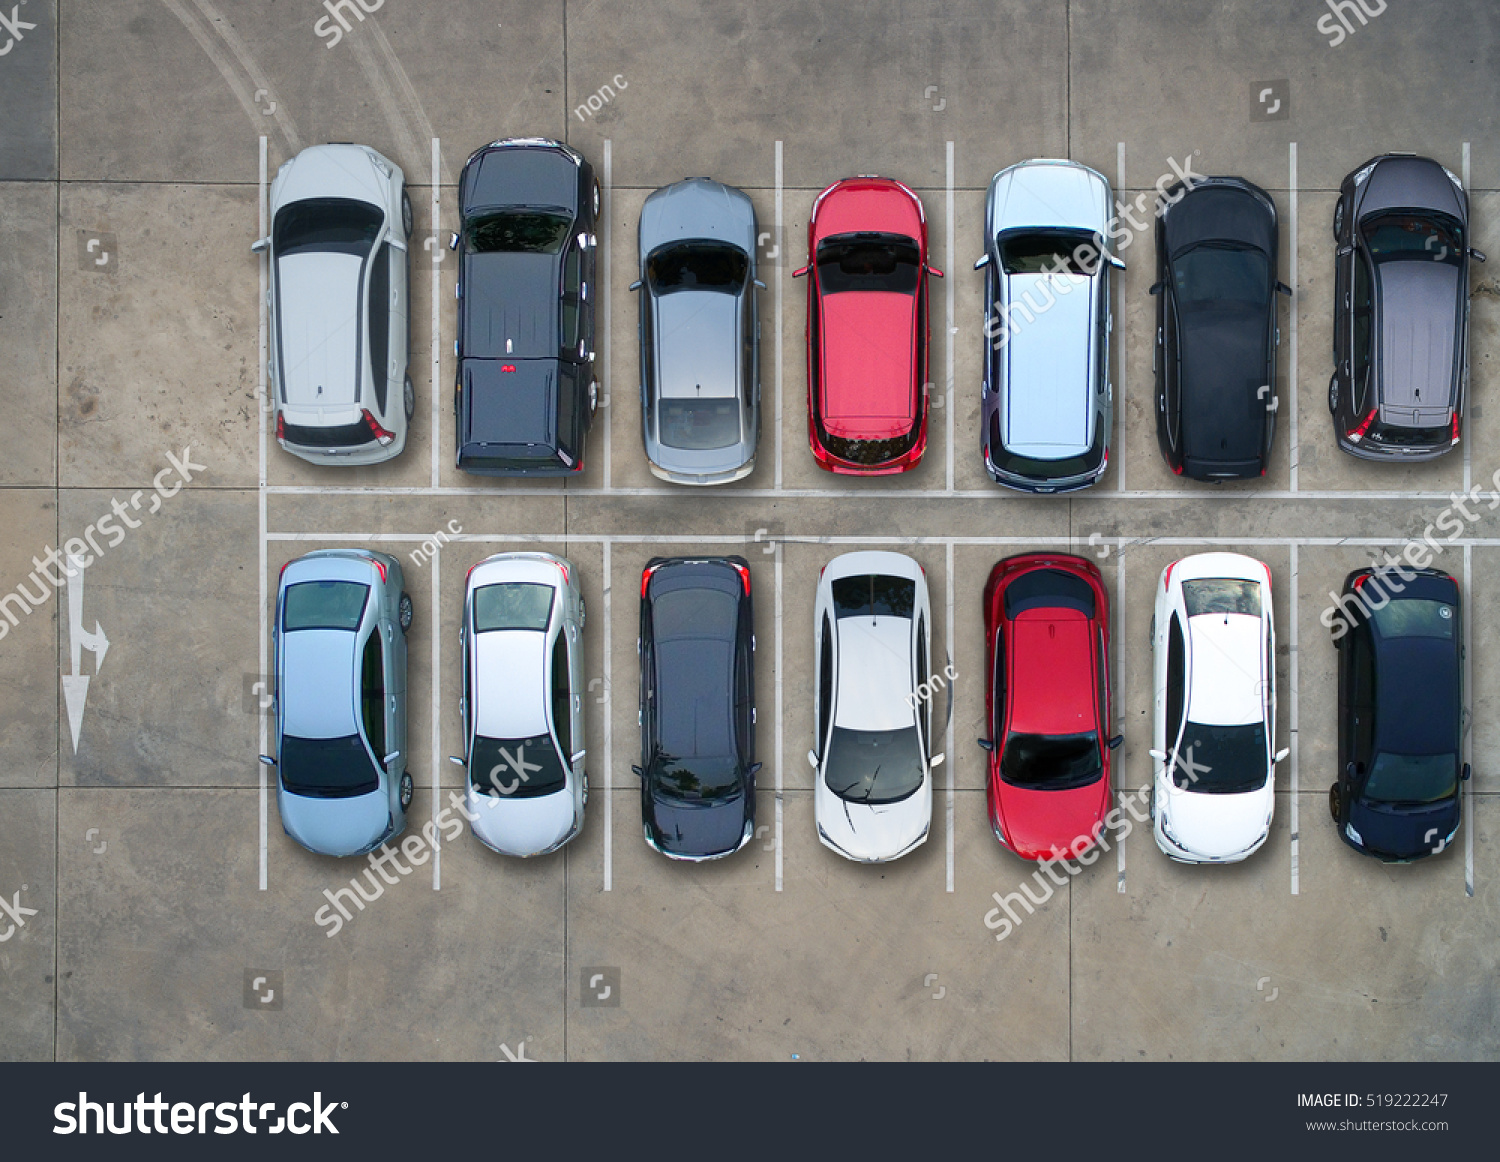Car: (972, 160, 1120, 502), (264, 138, 416, 470), (1330, 151, 1474, 467), (272, 551, 416, 861), (1144, 548, 1282, 870), (805, 552, 942, 867), (985, 548, 1116, 868), (457, 551, 591, 861), (799, 174, 935, 477), (634, 173, 763, 491)
LaneMark: (267, 484, 1500, 503), (269, 533, 1500, 551), (49, 543, 111, 783), (256, 135, 267, 889), (769, 136, 785, 490), (942, 136, 957, 490), (429, 541, 442, 894), (429, 136, 442, 487), (1287, 541, 1300, 892), (1287, 138, 1299, 495), (1116, 139, 1129, 491), (772, 538, 783, 895), (944, 540, 955, 893), (603, 134, 612, 491), (603, 540, 612, 895), (1116, 542, 1126, 896)
